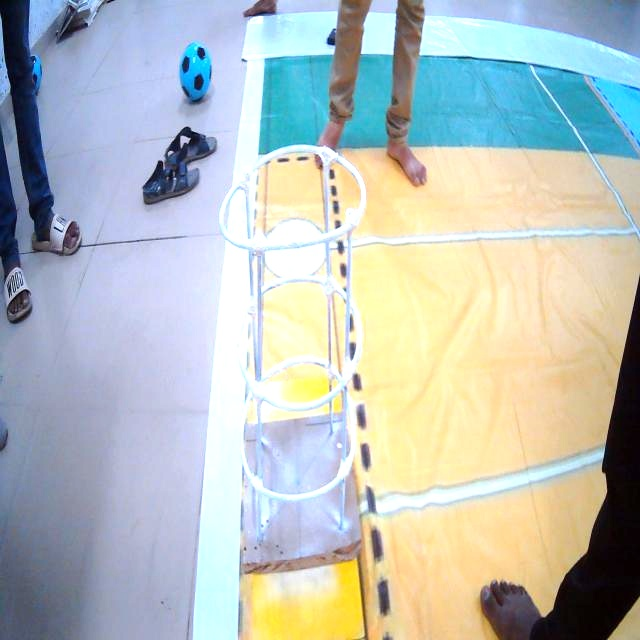silo: (208, 119, 374, 556)
